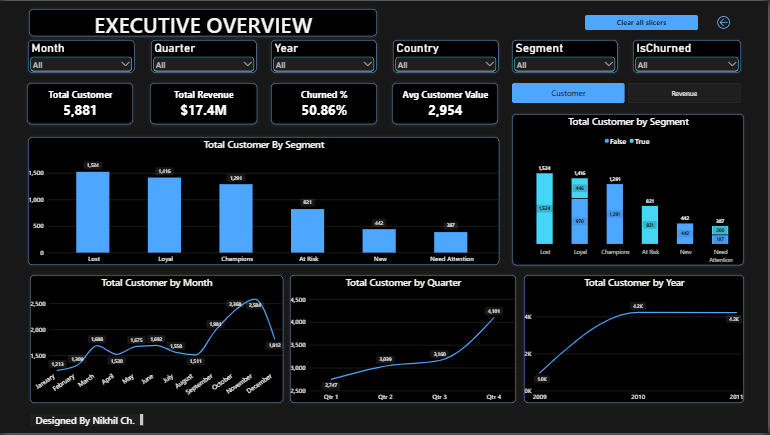

The page's visual inventory and layout, read from the dashboard file:
{"tool":"powerbi","page":{"name":"Overview","canvas":[1920,1080],"ordinal":0},"visuals":[{"type":"cardVisual","fields":{"Data":["Sheet1.Total Customer"]},"box":[67.5,205,265,102.5],"z":0},{"type":"columnChart","title":"Total Customer By Segment","fields":{"Category":["Sheet1.Segment"],"Y":["Sheet1.Total Customer"]},"box":[69,340.2,1177.5,320],"z":0,"group":"g1"},{"type":"slicer","fields":{"Values":["Sheet1.InvoiceDate.Variation.Date Hierarchy.Month"]},"box":[70,97.5,266,81.5],"z":1000},{"type":"lineChart","fields":{"Category":["Sheet1.InvoiceDate.Variation.Date Hierarchy.Month"],"Y":["Sheet1.Total Customer"]},"box":[74,684.7,632.5,320],"z":1000,"group":"g1"},{"type":"slicer","fields":{"Values":["Sheet1.InvoiceDate.Variation.Date Hierarchy.Quarter"]},"box":[377.5,97.5,263.9,81.5],"z":2000},{"type":"lineChart","fields":{"Category":["Sheet1.InvoiceDate.Variation.Date Hierarchy.Quarter"],"Y":["Sheet1.Total Customer"]},"box":[724,684.7,565,320],"z":2000,"group":"g1"},{"type":"cardVisual","fields":{"Data":["Sheet1.Total Revenue"]},"box":[375,205,267.5,102.5],"z":3000},{"type":"lineChart","fields":{"Category":["Sheet1.InvoiceDate.Variation.Date Hierarchy.Year"],"Y":["Sheet1.Total Customer"]},"box":[1309,684.7,550,320],"z":3000,"group":"g1"},{"type":"slicer","fields":{"Values":["Sheet1.InvoiceDate.Variation.Date Hierarchy.Year"]},"box":[677.5,97.5,263.9,81.5],"z":4000},{"type":"columnChart","title":"Total Customer by Segment ","fields":{"Category":["Sheet1.Segment"],"Series":["Sheet1.IsChurned"],"Y":["Sheet1.Total Customer"]},"box":[1278.9,281.7,580,377.5],"z":4000,"group":"g1"},{"type":"cardVisual","fields":{"Data":["Sheet1.Avg Customer Value"]},"box":[980,205,265,102.5],"z":5000},{"type":"slicer","fields":{"Values":["Sheet1.Country"]},"box":[982.5,97.5,263.9,81.5],"z":6000},{"type":"cardVisual","fields":{"Data":["Sheet1.Churned %"]},"box":[677.5,205,265,102.5],"z":7000},{"type":"slicer","fields":{"Values":["Sheet1.Segment"]},"box":[1280,97.5,263.9,81.5],"z":8000},{"type":"slicer","fields":{"Values":["Sheet1.IsChurned"]},"box":[1582.5,97.5,270.3,81.5],"z":9000},{"type":"group","id":"g1","title":"Customer","box":[69,281.7,1790,723],"z":10000},{"type":"bookmarkNavigator","box":[1280,205,572.5,50],"z":12000},{"type":"textbox","box":[75.1,1031.9,283.2,30],"z":13000},{"type":"actionButton","box":[1717.5,20,182.5,67.5],"z":14000},{"type":"actionButton","box":[1462.5,35,282.5,37.5],"z":15000},{"type":"textbox","title":"EXECUTIVE OVERVIEW","box":[72.5,20,870,67.5],"z":16000}]}

Visuals, with their boxes in screenshot pixels (x1, y1, x2, y2), scaled from the page's 1920x1080 canvas onto the 770x435 screenshot:
cardVisual - Sheet1.Total Customer: pyautogui.locateOnScreen(27, 83, 133, 124)
"Total Customer By Segment" columnChart: pyautogui.locateOnScreen(28, 137, 500, 266)
slicer - Sheet1.InvoiceDate.Variation.Date Hierarchy.Month: pyautogui.locateOnScreen(28, 39, 135, 72)
lineChart - Sheet1.InvoiceDate.Variation.Date Hierarchy.Month x Sheet1.Total Customer: pyautogui.locateOnScreen(30, 276, 283, 405)
slicer - Sheet1.InvoiceDate.Variation.Date Hierarchy.Quarter: pyautogui.locateOnScreen(151, 39, 257, 72)
lineChart - Sheet1.InvoiceDate.Variation.Date Hierarchy.Quarter x Sheet1.Total Customer: pyautogui.locateOnScreen(290, 276, 517, 405)
cardVisual - Sheet1.Total Revenue: pyautogui.locateOnScreen(150, 83, 258, 124)
lineChart - Sheet1.InvoiceDate.Variation.Date Hierarchy.Year x Sheet1.Total Customer: pyautogui.locateOnScreen(525, 276, 746, 405)
slicer - Sheet1.InvoiceDate.Variation.Date Hierarchy.Year: pyautogui.locateOnScreen(272, 39, 378, 72)
"Total Customer by Segment " columnChart: pyautogui.locateOnScreen(513, 113, 745, 266)
cardVisual - Sheet1.Avg Customer Value: pyautogui.locateOnScreen(393, 83, 499, 124)
slicer - Sheet1.Country: pyautogui.locateOnScreen(394, 39, 500, 72)
cardVisual - Sheet1.Churned %: pyautogui.locateOnScreen(272, 83, 378, 124)
slicer - Sheet1.Segment: pyautogui.locateOnScreen(513, 39, 619, 72)
slicer - Sheet1.IsChurned: pyautogui.locateOnScreen(635, 39, 743, 72)
"Customer" group: pyautogui.locateOnScreen(28, 113, 746, 405)
bookmarkNavigator: pyautogui.locateOnScreen(513, 83, 743, 103)
textbox: pyautogui.locateOnScreen(30, 416, 144, 428)
actionButton: pyautogui.locateOnScreen(689, 8, 762, 35)
actionButton: pyautogui.locateOnScreen(587, 14, 700, 29)
"EXECUTIVE OVERVIEW" textbox: pyautogui.locateOnScreen(29, 8, 378, 35)
